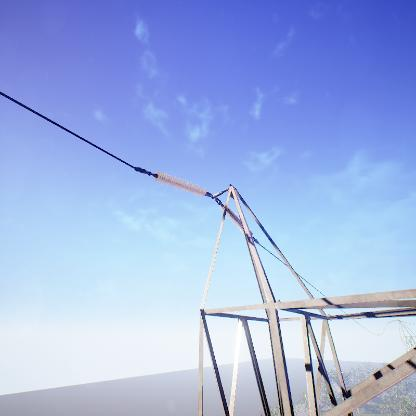insulator: (153, 169, 206, 196)
